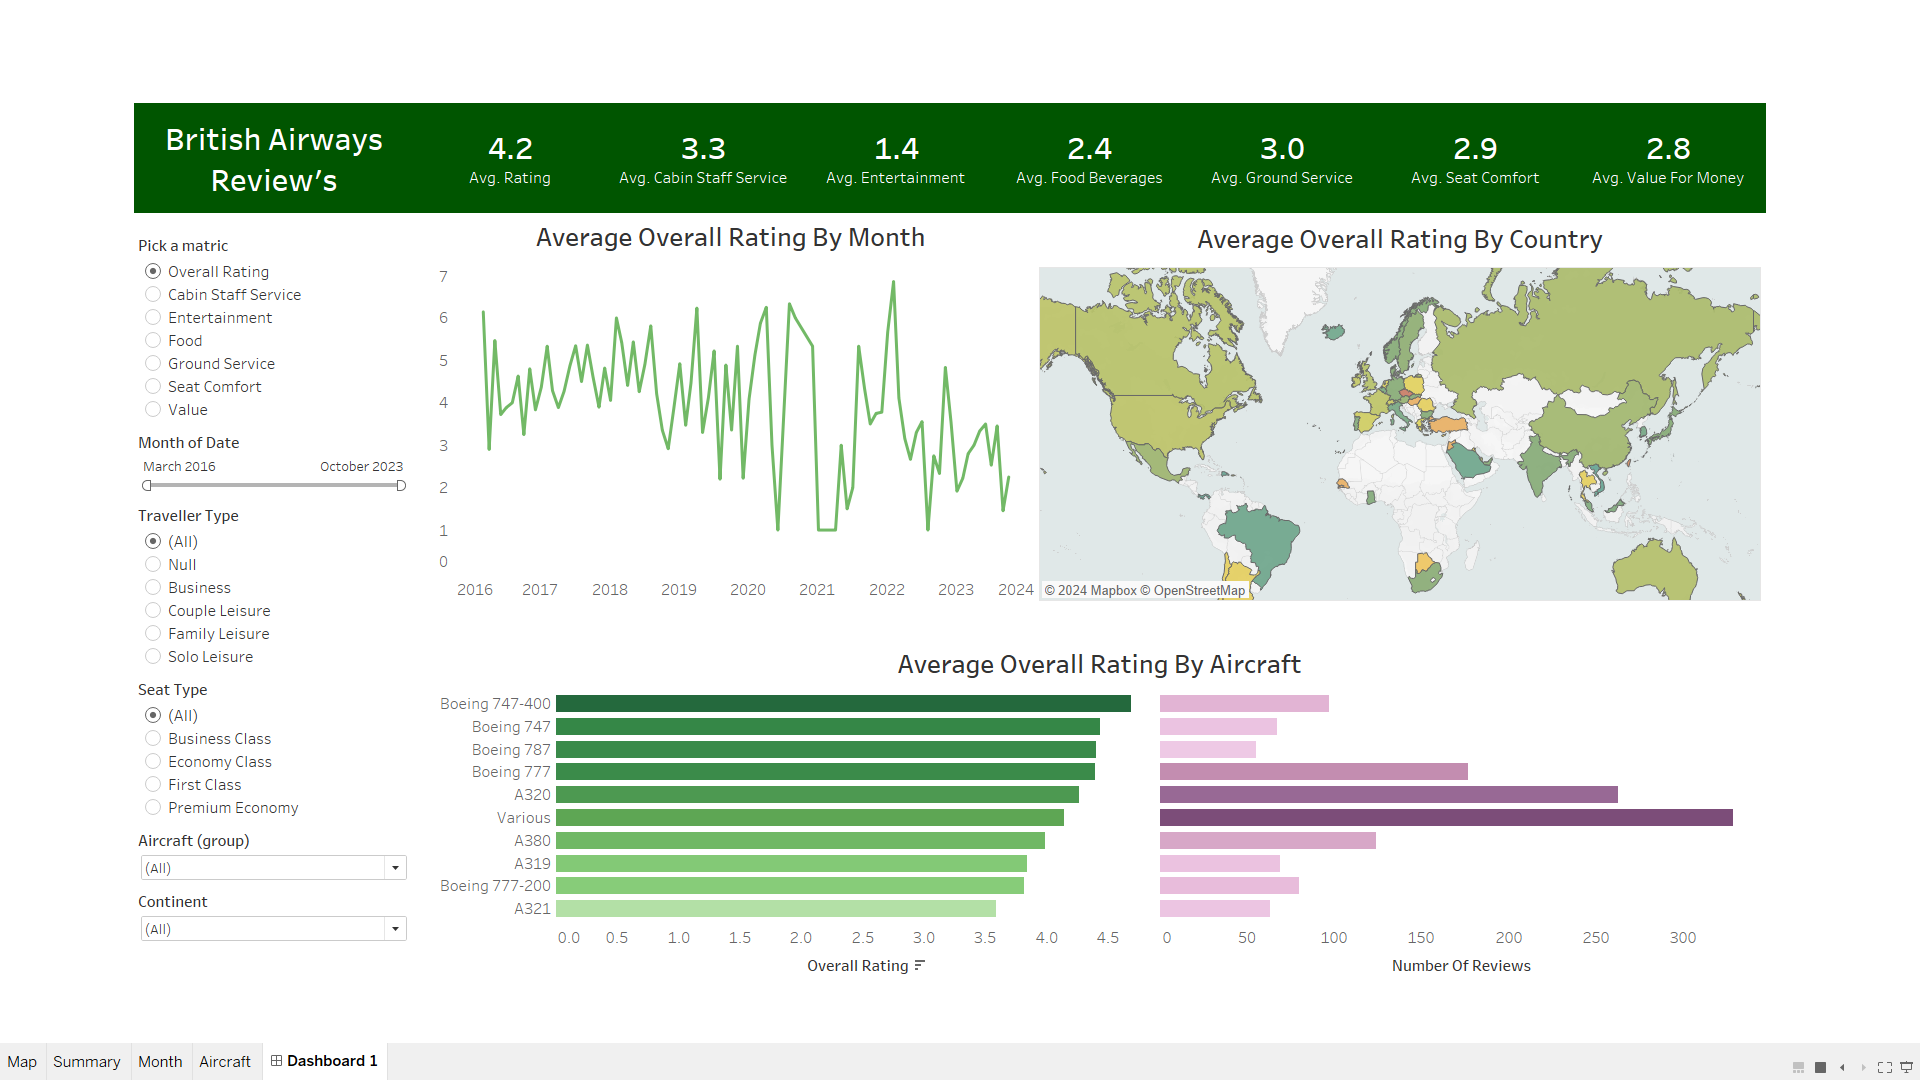

The page's visual inventory and layout, read from the dashboard file:
{"tool":"tableau","page":{"name":"Dashboard 1","canvas":[1666,868],"ordinal":0},"visuals":[{"type":"worksheet","title":"Summary","mark":"Automatic","box":[281,10,1385,155]},{"type":"text","box":[7,16,280,110]},{"type":"worksheet","title":"Month","mark":"Automatic","rows":["Calculation_1187542957562589184"],"cols":["date"],"box":[298,128,611,387]},{"type":"worksheet","title":"Map","mark":"Automatic","box":[912,130,722,384]},{"type":"parameter","param":"[Parameters].[Parameter 1]","box":[7,143.5,280,197]},{"type":"filter","title":"Map","param":"[federated.0wctlnn11ki9co1eimd7c0vsf91i].[tmn:date:qk]","box":[7,340.5,280,73]},{"type":"filter","title":"Map","param":"[federated.0wctlnn11ki9co1eimd7c0vsf91i].[none:traveller_type:nk]","box":[7,413.5,280,174]},{"type":"filter","title":"Map","param":"[federated.0wctlnn11ki9co1eimd7c0vsf91i].[none:seat_type:nk]","box":[7,587.5,280,151]},{"type":"filter","title":"Map","param":"[federated.0wctlnn11ki9co1eimd7c0vsf91i].[Aircraft (group)]","box":[7,738.5,280,61]},{"type":"filter","title":"Map","param":"[federated.0wctlnn11ki9co1eimd7c0vsf91i].[none:Continent:nk]","box":[7,799.5,280,61]}]}

Visuals, with their boxes on the page's 1666x868 design canvas (x1, y1, x2, y2). These are canvas units, not pixel positions in the 1920x1080 screenshot, which may show the page scaled, cropped or inside an application window:
"Summary" worksheet: box=[281, 10, 1666, 165]
text: box=[7, 16, 287, 126]
"Month" worksheet: box=[298, 128, 909, 515]
"Map" worksheet: box=[912, 130, 1634, 514]
parameter: box=[7, 144, 287, 340]
"Map" filter: box=[7, 340, 287, 414]
"Map" filter: box=[7, 414, 287, 588]
"Map" filter: box=[7, 588, 287, 738]
"Map" filter: box=[7, 738, 287, 800]
"Map" filter: box=[7, 800, 287, 860]
